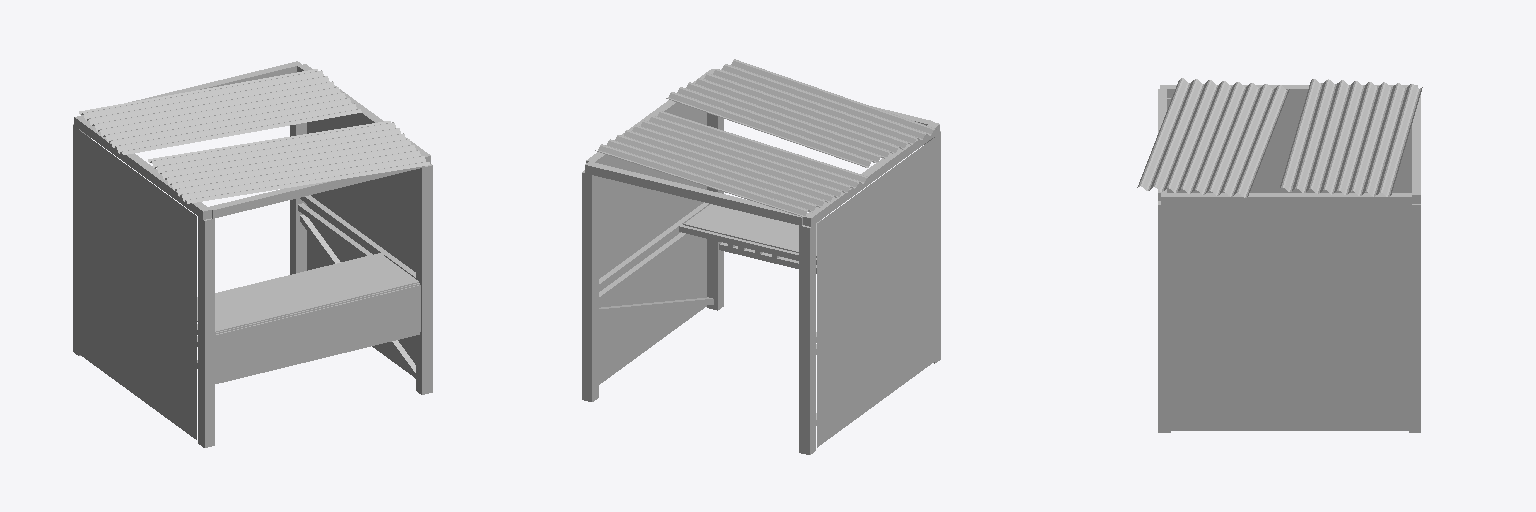
File: market-stand.obj
3 views of the same model, side by side, from view 1: azimuth 30°, elevation 25°; view 2: azimuth 150°, elevation 25°; view 3: azimuth 270°, elevation 25° (orthographic).
Bounding box in the file's own units: 2.19 × 2.12 × 2.28.